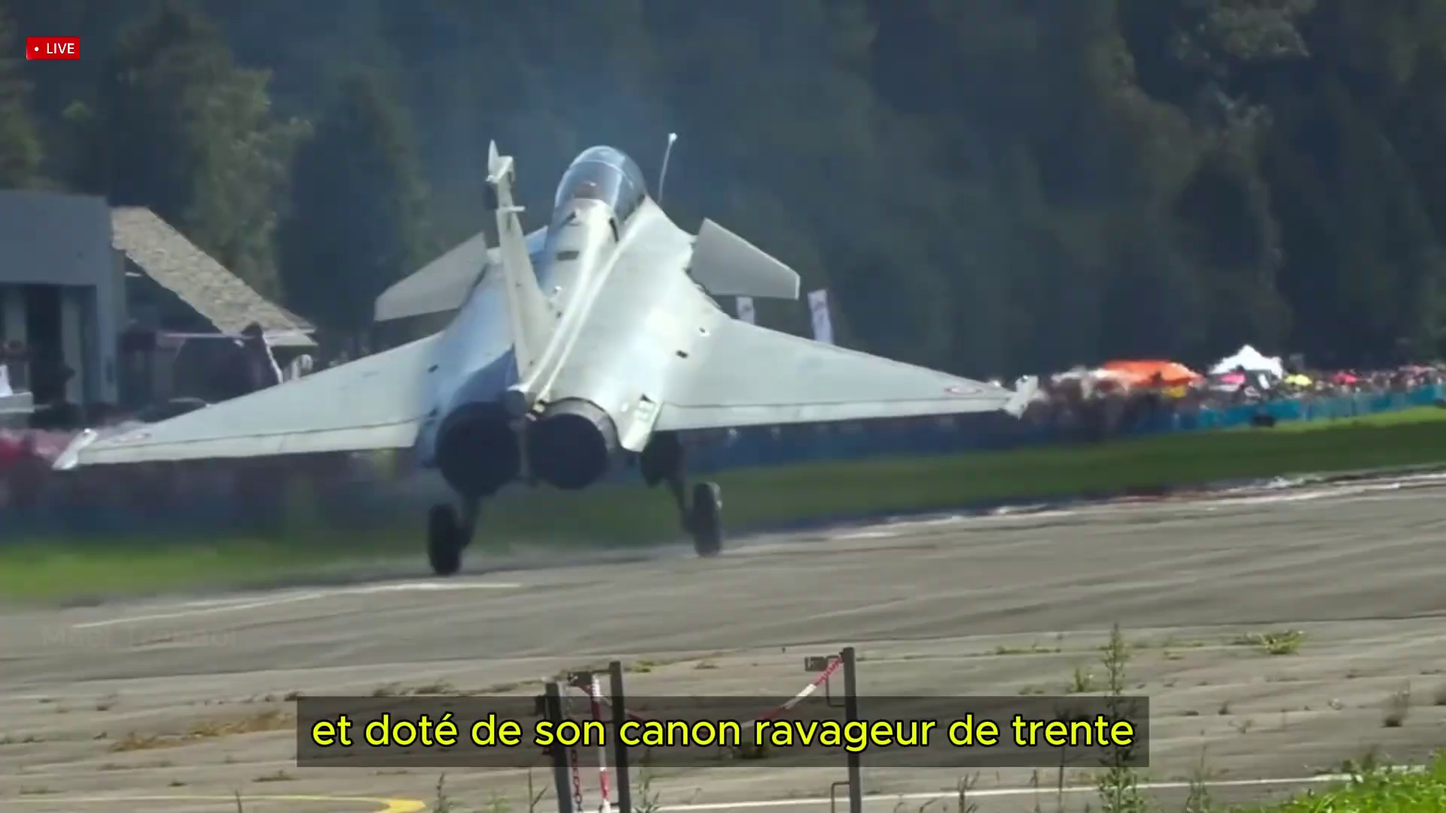Rafale: (61, 138, 1010, 576)
